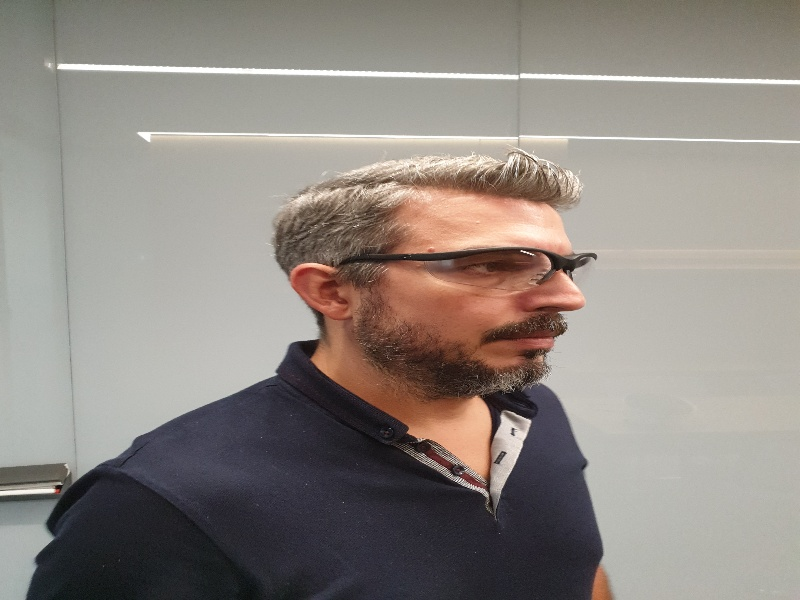Gozluk: (352, 245, 600, 298)
